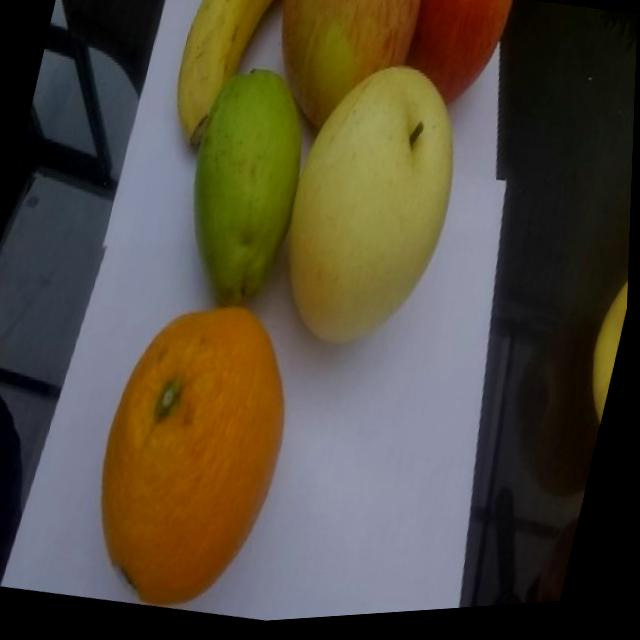Apple: (255, 0, 427, 152), (398, 0, 515, 123)
Banana: (163, 0, 291, 164)
Orange: (76, 286, 316, 628)
